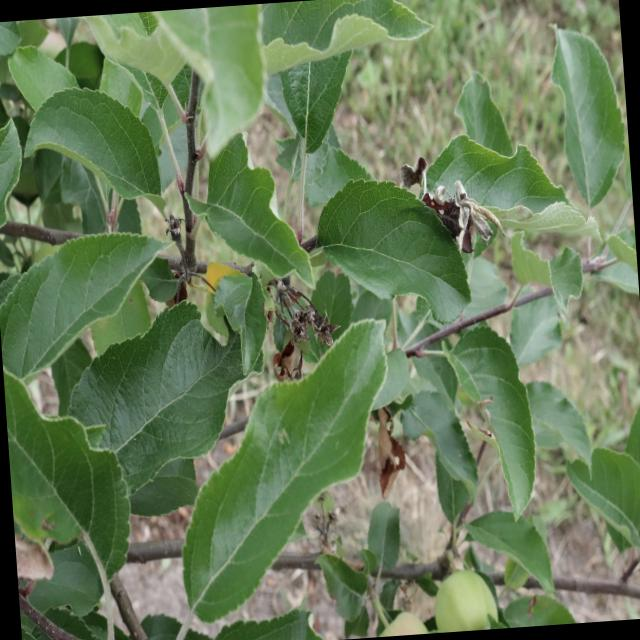-FireBlight-: (406, 150, 497, 243), (272, 276, 328, 363), (368, 401, 415, 498)
